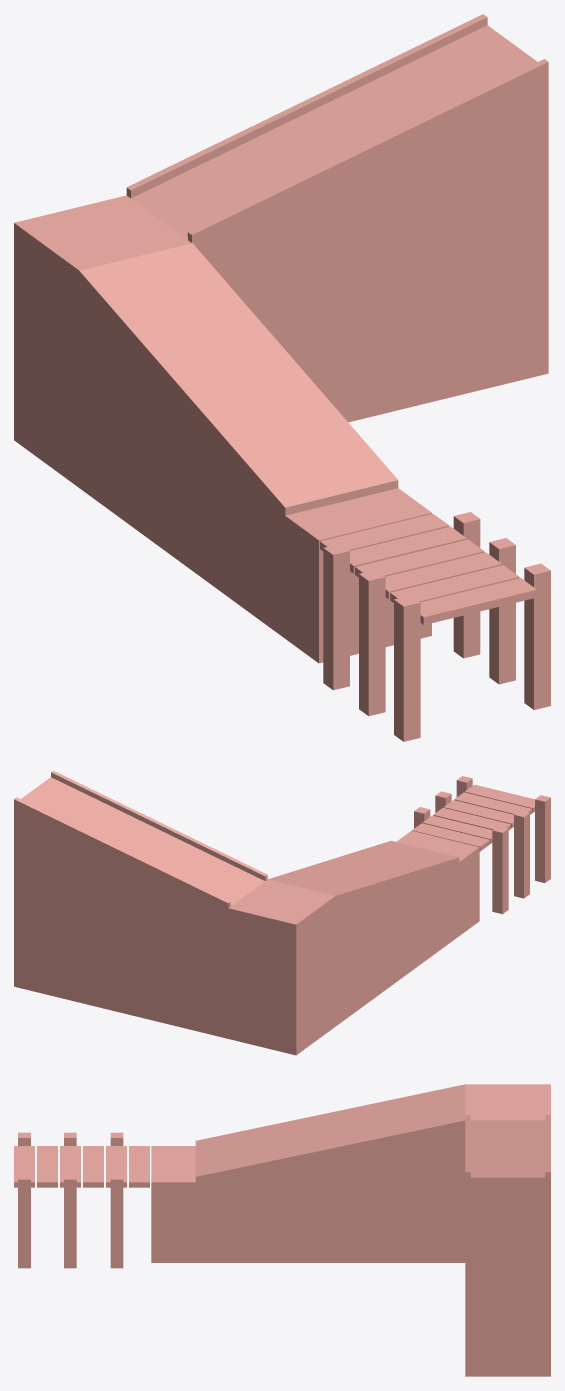
Rendered from Sunset_Lighthouse_002.FBX.
The picture shows the model from 3 angles, top to bottom: view 1: azimuth 30°, elevation 25°; view 2: azimuth 150°, elevation 25°; view 3: azimuth 270°, elevation 25°; orthographic projection. The views are drawn at different scales.
Parts seen in each view (by area): view 1: Sunset_Lighthouse_002; view 2: Sunset_Lighthouse_002; view 3: Sunset_Lighthouse_002.
Boxes of the visible parts, x1=… form: Sunset_Lighthouse_002: x1=14, y1=14, x2=550, y2=741; Sunset_Lighthouse_002: x1=14, y1=770, x2=550, y2=1055; Sunset_Lighthouse_002: x1=14, y1=1084, x2=550, y2=1376.
Bounding box in the file's own units: 430 × 263 × 627.
1 material, 1 textured.
